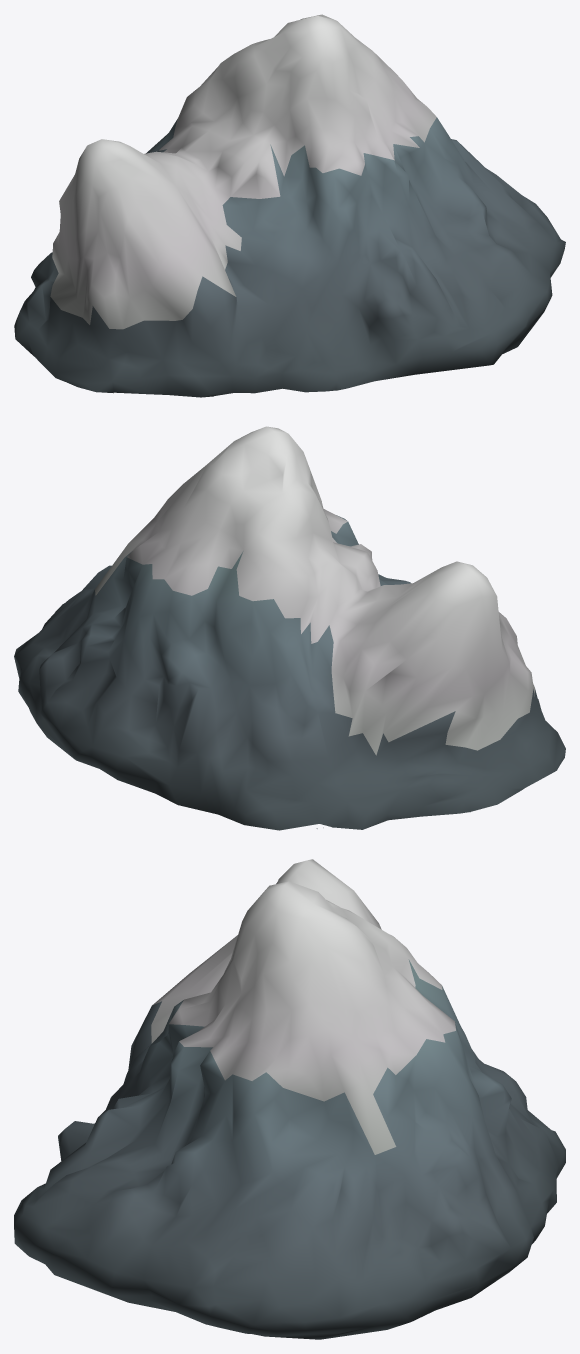
The model's file is MountainSnowy_1.fbx.
3 renders of one model, top to bottom at view 1: azimuth 30°, elevation 25°; view 2: azimuth 150°, elevation 25°; view 3: azimuth 270°, elevation 25°, orthographic. The views are drawn at different scales.
Parts seen in each view (by area): view 1: MountainSnowy_1; view 2: MountainSnowy_1; view 3: MountainSnowy_1.
Boxes of the visible parts, x1=… form: MountainSnowy_1: x1=14, y1=14, x2=565, y2=397; MountainSnowy_1: x1=14, y1=426, x2=565, y2=830; MountainSnowy_1: x1=14, y1=859, x2=565, y2=1339.
Size of the model in its own units: 2540 by 1380 by 2067.
